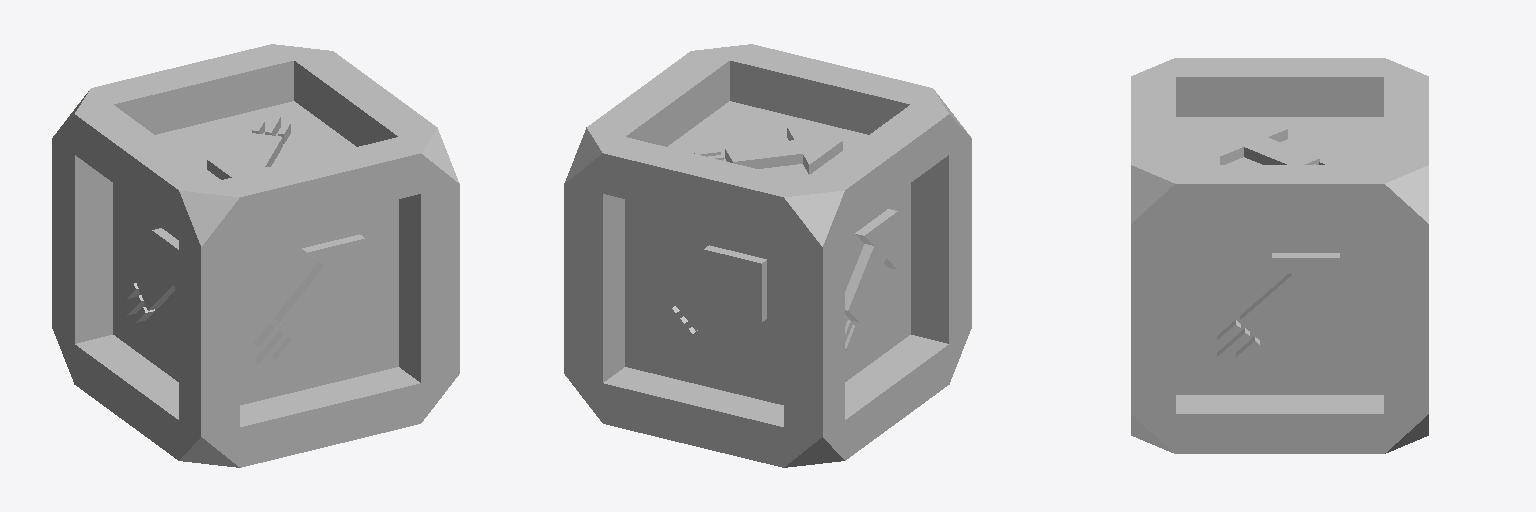
File: nitrokit.obj
3 views of the same model, side by side, from view 1: azimuth 30°, elevation 25°; view 2: azimuth 150°, elevation 25°; view 3: azimuth 270°, elevation 25° (orthographic).
Parts seen in each view (by area): view 1: borders, main, cube; view 2: borders, main, cube; view 3: borders, main, cube.
Part boxes in pixels (bbox=[...]): borders: bbox=[52, 44, 459, 467]; main: bbox=[113, 101, 398, 404]; cube: bbox=[124, 116, 365, 366]; borders: bbox=[564, 44, 971, 467]; main: bbox=[625, 101, 910, 404]; cube: bbox=[656, 127, 897, 351]; borders: bbox=[1131, 58, 1428, 453]; main: bbox=[1176, 117, 1383, 394]; cube: bbox=[1217, 129, 1339, 361].
Bounding box in the file's own units: 1.25 × 1.25 × 1.25.